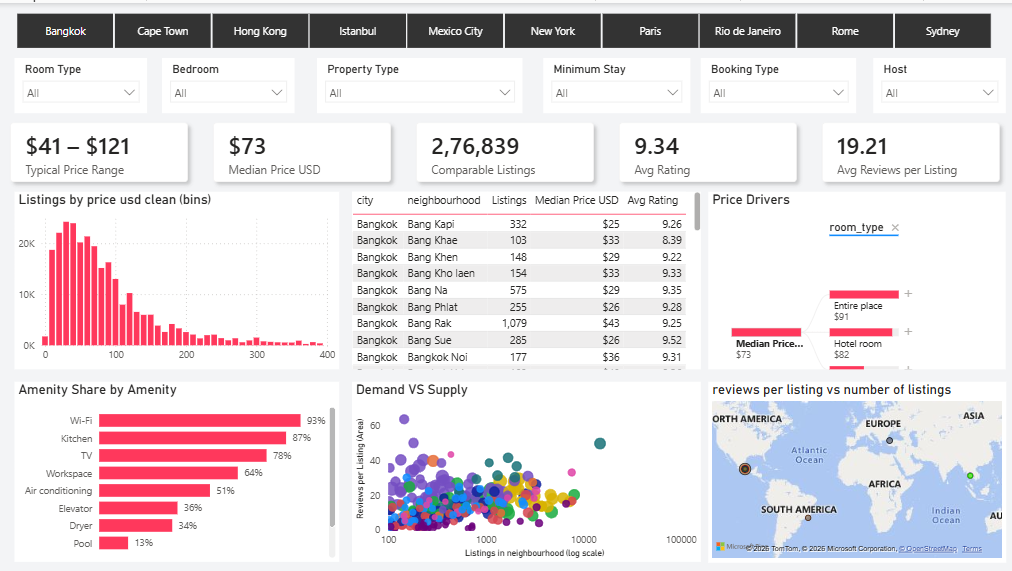

Layout of this report page (visuals, bound fields, positions):
{"tool":"powerbi","page":{"name":"5. Explore","canvas":[1280,720],"ordinal":4},"visuals":[{"type":"slicer","fields":{"Values":["dim_city.city"]},"box":[4.7,11,1267.7,47.3],"z":0},{"type":"slicer","fields":{"Values":["dim_listing.room_type"]},"box":[22.1,69.4,167.4,69.4],"z":1000},{"type":"slicer","fields":{"Values":["dim_listing.bedroom_group"]},"box":[208.1,69.4,167.4,69.4],"z":2000},{"type":"slicer","fields":{"Values":["dim_listing.property_group"]},"box":[403.6,69.4,259.4,69.4],"z":3000},{"type":"slicer","fields":{"Values":["dim_listing.min_nights_group"]},"box":[689,69.4,185.5,69.4],"z":4000},{"type":"slicer","fields":{"Values":["dim_listing.instant_bookable_label"]},"box":[887.7,69.4,196,69.4],"z":5000},{"type":"slicer","fields":{"Values":["dim_host.superhost_label"]},"box":[1105.3,69.4,167.4,69.4],"z":6000},{"type":"cardVisual","fields":{"Data":["_Measures.Typical Price Range","_Measures.Median Price USD","_Measures.Comparable Listings","_Measures.Avg Rating","_Measures.Avg Reviews per Listing"]},"box":[4.7,138.8,1275.6,99.3],"z":7000},{"type":"clusteredColumnChart","title":"Listings by price usd clean (bins)","fields":{"Category":["dim_listing.price_usd_clean (bins)"],"Y":["_Measures.Listings"]},"box":[22.1,238.1,410,223.9],"z":8000},{"type":"decompositionTreeVisual","title":"Price Drivers","fields":{"Analyze":["_Measures.Median Price USD"],"ExplainBy":["dim_listing.room_type","dim_listing.bedroom_group","dim_host.host_type","dim_city.city","dim_listing.property_group","dim_listing.amenity_band"]},"box":[897.2,238.1,375.3,223.9],"z":9000},{"type":"tableEx","fields":{"Values":["dim_city.city","dim_listing.neighbourhood","_Measures.Listings","_Measures.Median Price USD","_Measures.Avg Rating"]},"box":[447.8,238.1,439.9,223.9],"z":10000},{"type":"scatterChart","title":"Demand VS Supply","fields":{"Category":["neighbourhood_summary.neighbourhood"],"Series":["neighbourhood_summary.city"],"Size":["Sum(neighbourhood_summary.median_price_usd)"],"X":["Sum(neighbourhood_summary.listings)"],"Y":["_Measures.Reviews per Listing (Area)"]},"box":[447.8,477.8,439.9,227.1],"z":11000},{"type":"barChart","fields":{"Category":["Amenities.Amenity"],"Y":["_Measures.Amenity Share"]},"box":[22.1,477.8,410,227.1],"z":12000},{"type":"map","title":"reviews per listing vs number of listings","fields":{"Series":["neighbourhood_summary.median_price_usd"],"Size":["Sum(neighbourhood_summary.total_reviews)"],"X":["neighbourhood_summary.longitude"],"Y":["neighbourhood_summary.latitude"]},"box":[897.2,477.8,375.3,227.1],"z":13000}]}

Visuals, with their boxes in screenshot pixels (x1, y1, x2, y2), scaled from the page's 1280x720 canvas onto the 1012x571 screenshot:
slicer - dim_city.city: box(4, 9, 1006, 46)
slicer - dim_listing.room_type: box(17, 55, 150, 110)
slicer - dim_listing.bedroom_group: box(165, 55, 297, 110)
slicer - dim_listing.property_group: box(319, 55, 524, 110)
slicer - dim_listing.min_nights_group: box(545, 55, 691, 110)
slicer - dim_listing.instant_bookable_label: box(702, 55, 857, 110)
slicer - dim_host.superhost_label: box(874, 55, 1006, 110)
cardVisual - _Measures.Typical Price Range x _Measures.Median Price USD: box(4, 110, 1011, 189)
"Listings by price usd clean (bins)" clusteredColumnChart: box(17, 189, 342, 366)
"Price Drivers" decompositionTreeVisual: box(709, 189, 1006, 366)
tableEx - dim_city.city x dim_listing.neighbourhood: box(354, 189, 702, 366)
"Demand VS Supply" scatterChart: box(354, 379, 702, 559)
barChart - Amenities.Amenity x _Measures.Amenity Share: box(17, 379, 342, 559)
"reviews per listing vs number of listings" map: box(709, 379, 1006, 559)
